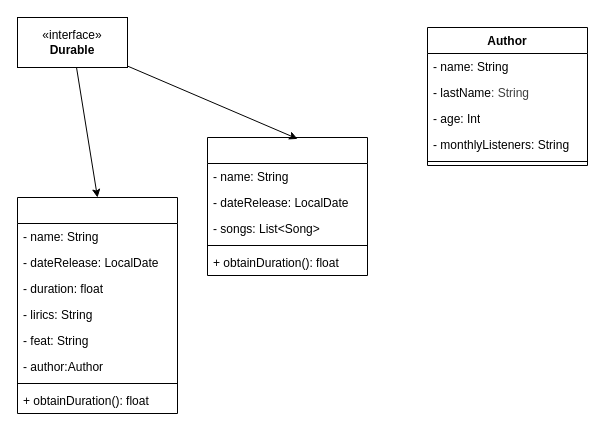
Some shapes in this 605 by 434 pixel diagram are drawn without their labels. Each missing label, with the box of its shape:
Album: (206, 136, 368, 276)
Song: (16, 196, 178, 414)
